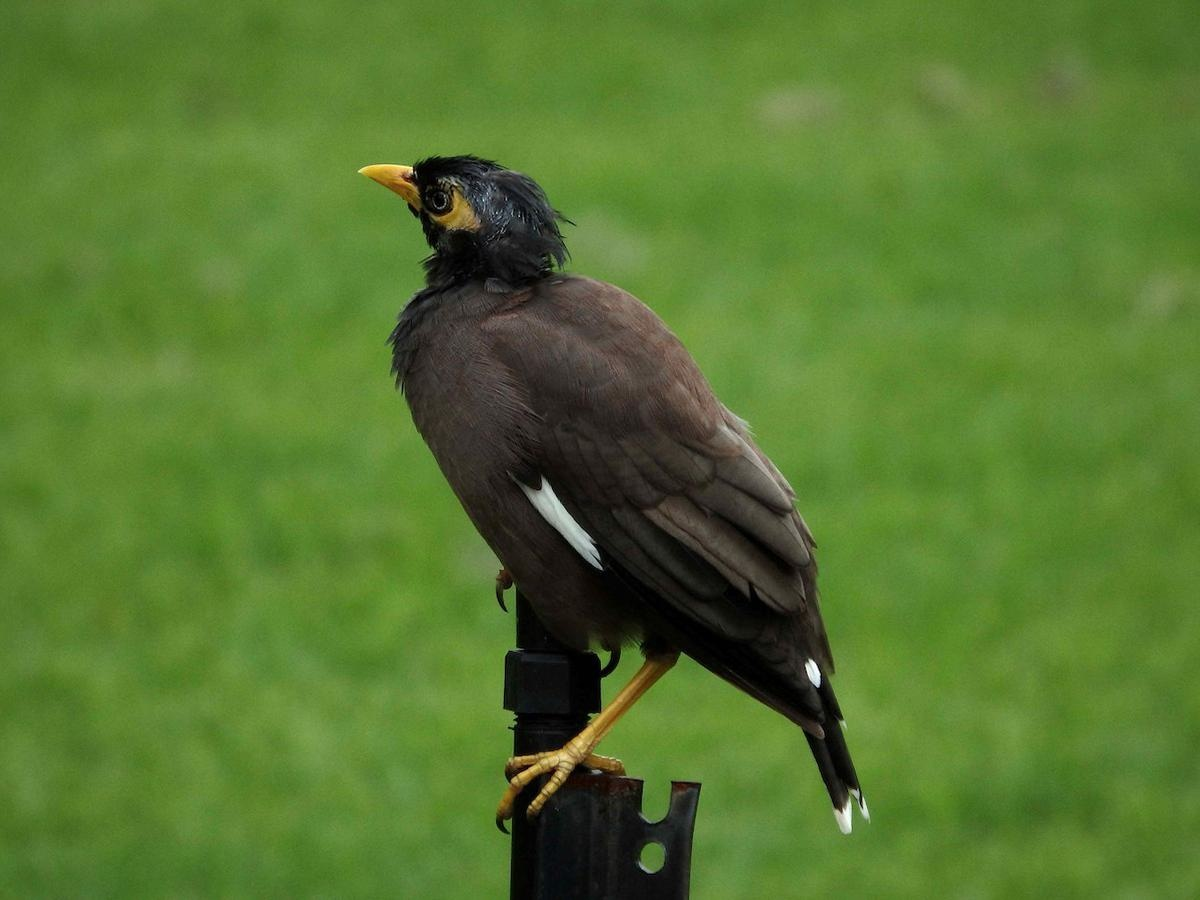myna: (354, 116, 925, 834)
